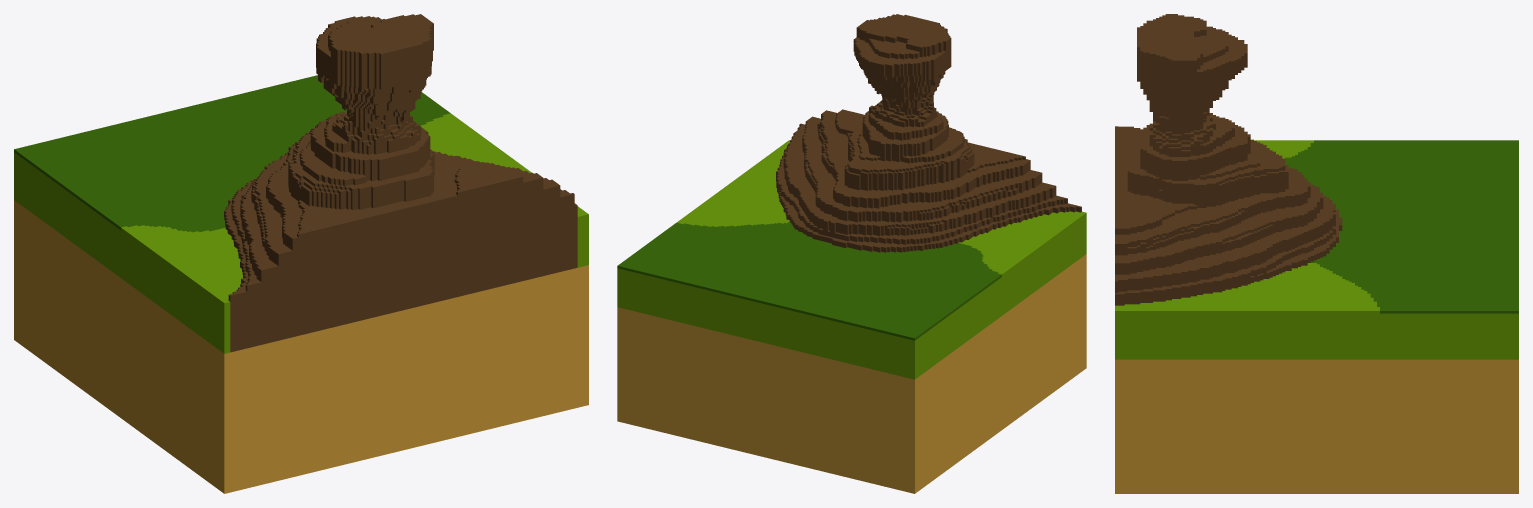
3 views of the same model, side by side, from view 1: azimuth 30°, elevation 25°; view 2: azimuth 150°, elevation 25°; view 3: azimuth 270°, elevation 25° (orthographic). The views are drawn at different scales.
Visible parts, largest first — view 1: 6M; view 2: 6M; view 3: 6M.
Boxes of the visible parts, x1=… form: 6M: x1=14, y1=14, x2=588, y2=493; 6M: x1=617, y1=14, x2=1086, y2=493; 6M: x1=1115, y1=14, x2=1518, y2=493.
Bounding box in the file's own units: 12.8 × 13.1 × 12.8.
1 material, 1 textured.
